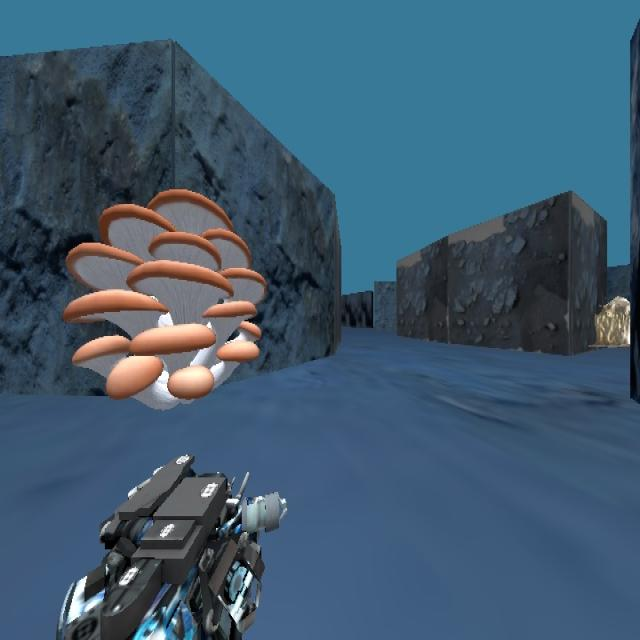Ice: (587, 282, 640, 350)
Mushroom: (62, 187, 267, 408)
